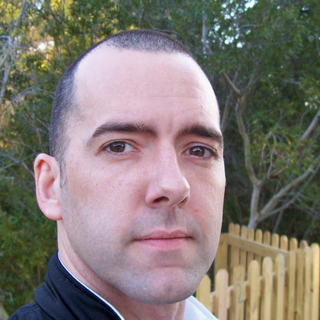eye: (95, 134, 144, 161), (177, 139, 220, 165)
